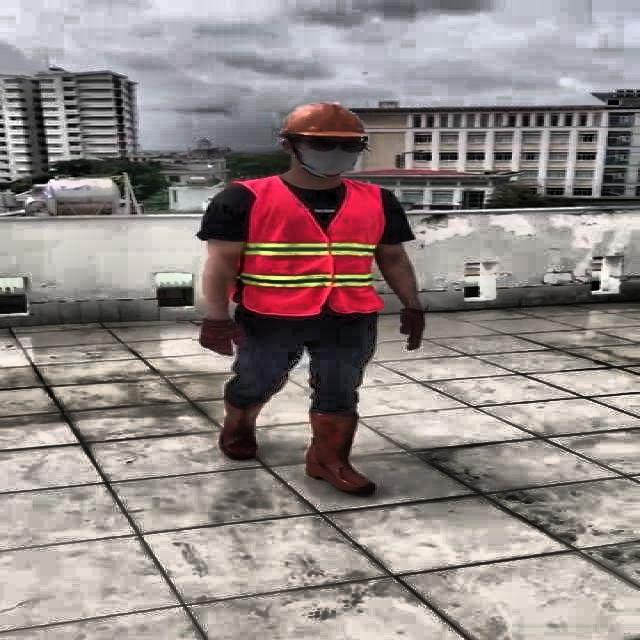safety_helmet: (270, 90, 374, 138)
safety_jacket: (242, 179, 386, 315)
